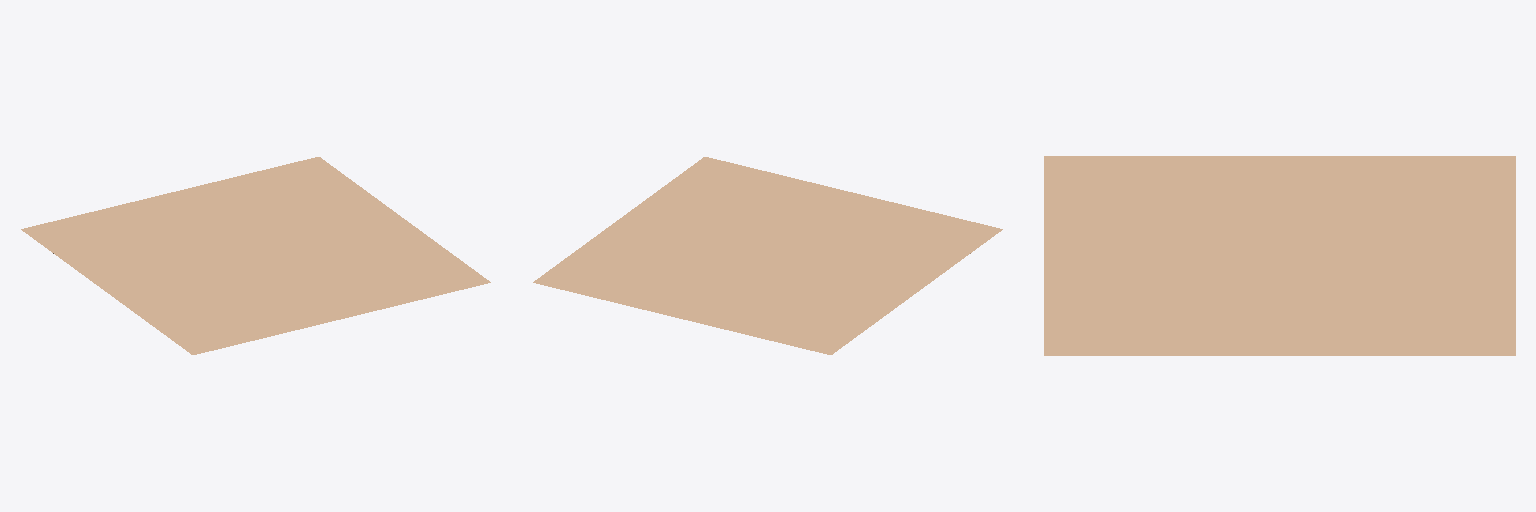
robot.urdf — flat_terrain:
<?xml version="1.0"?>
<robot name="flat_terrain">
  <link name="base_link">
  <contact>
      <lateral_friction value="1"/>
  </contact>
    <inertial>
      <origin rpy="0 0 0" xyz="0 0 0"/>
       <mass value=".0"/>
       <inertia ixx="0" ixy="0" ixz="0" iyy="0" iyz="0" izz="0"/>
    </inertial>
    <visual>
      <origin xyz="0 0 -0.05" rpy="0 0 0" />
      <geometry>
        <box size="20000 20000 0.1" />
      </geometry>
      <material name="desert sand">
        <color rgba="0.9297 0.7930 0.6758 1" />
      </material>
    </visual>
    <collision>
      <origin xyz="0 0 -0.05" rpy="0 0 0" />
      <geometry>
        <box size="20000 20000 0.1" />
      </geometry>
    </collision>
  </link>
</robot>

--- Facts derived from the render (not from the file) ---
Views: 3 orthographic renders of the robot side by side, from view 1: azimuth 30°, elevation 25°; view 2: azimuth 150°, elevation 25°; view 3: azimuth 270°, elevation 25°.
Robot: flat_terrain — 1 links, 0 joints (none); root link base_link; default pose: all joints at 0.
Links seen in each view (by area): view 1: base_link; view 2: base_link; view 3: base_link.
Link boxes in pixels (x1,y1,x2,y2): base_link: [21, 157, 490, 354]; base_link: [533, 157, 1002, 354]; base_link: [1044, 156, 1515, 355].
Bounding box of the posed robot: 20000 × 20000 × 0.1 m (x, y, z).
Geometry: primitives only (box / cylinder / sphere), no mesh files.
